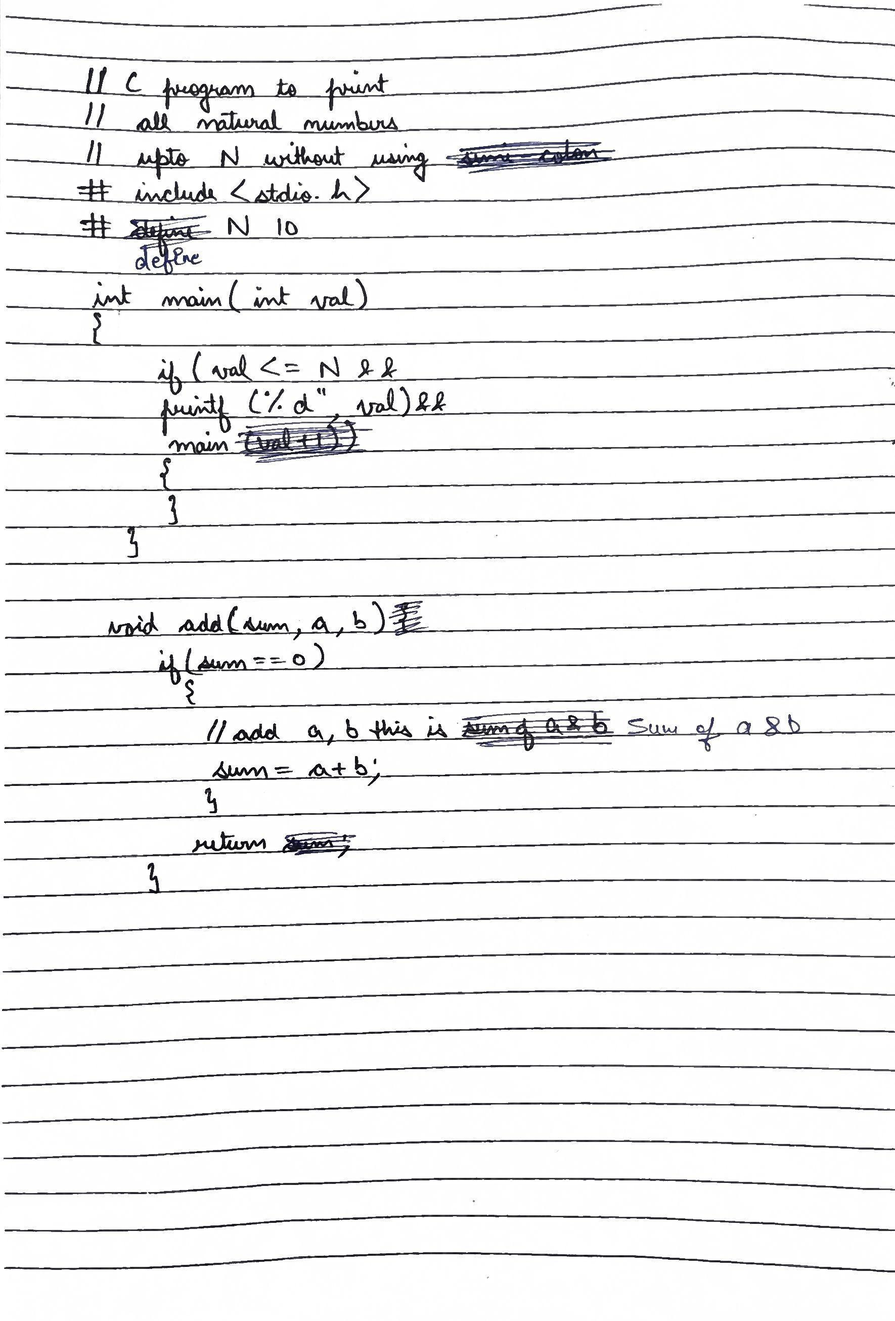cuttings: (234, 413, 372, 465), (459, 709, 617, 752), (445, 140, 618, 174), (121, 214, 215, 257), (282, 830, 358, 859), (388, 601, 430, 637)
